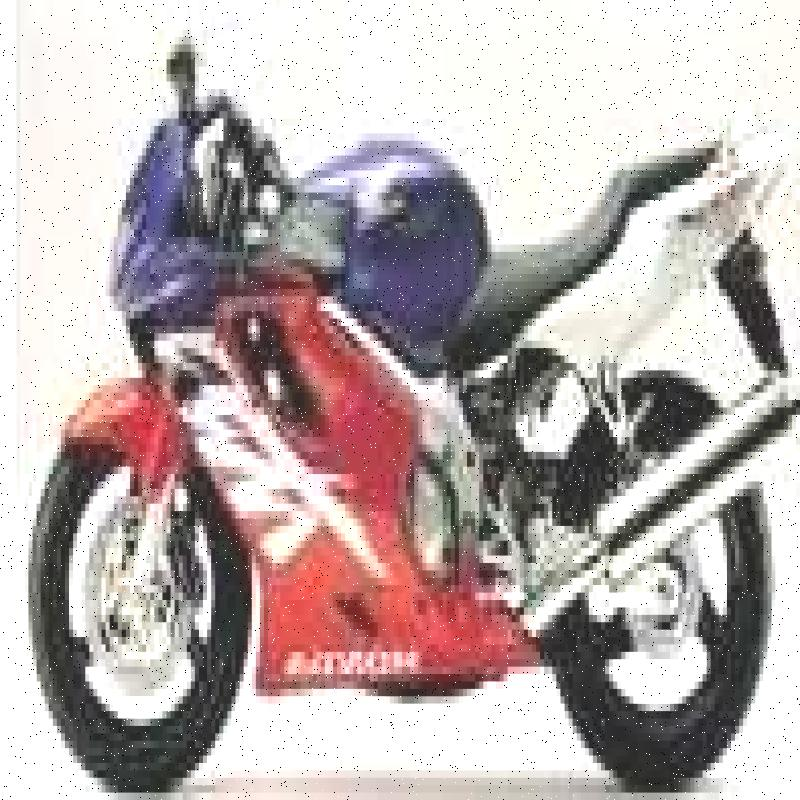bike: (15, 49, 794, 792)
